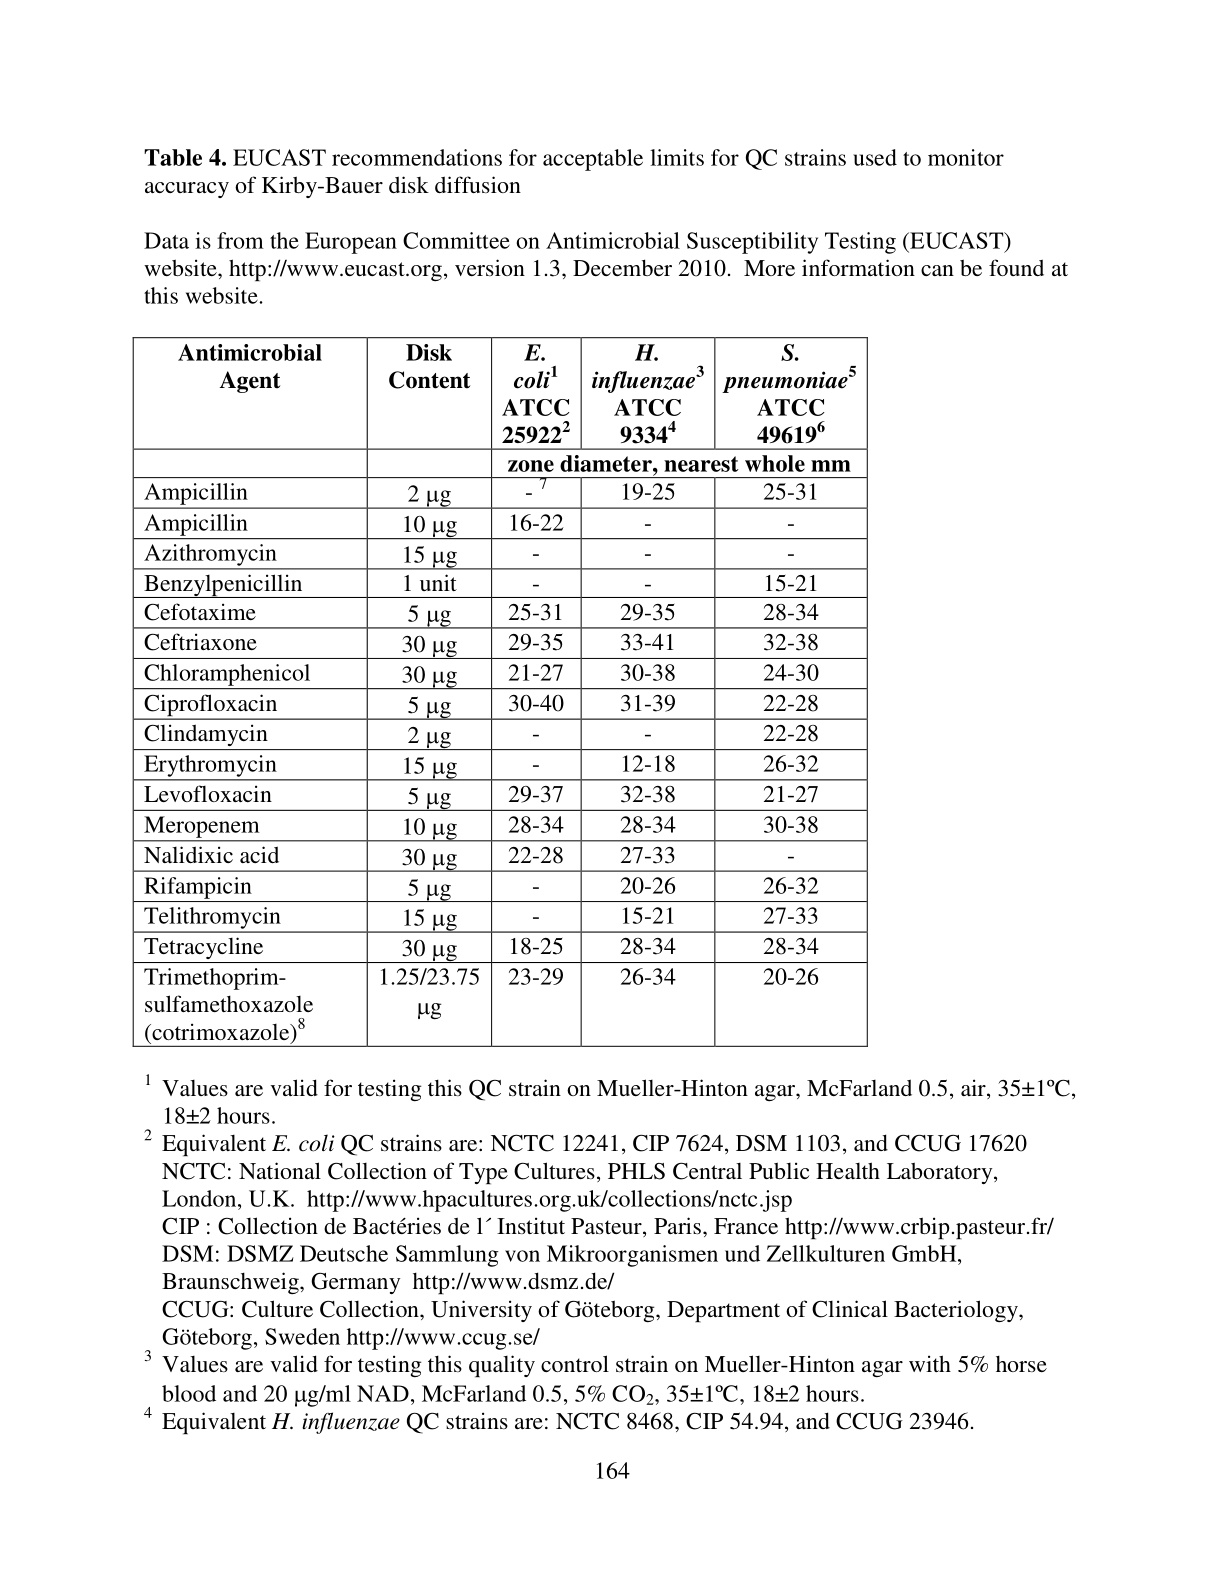merged_cells: (132, 336, 869, 1048)
